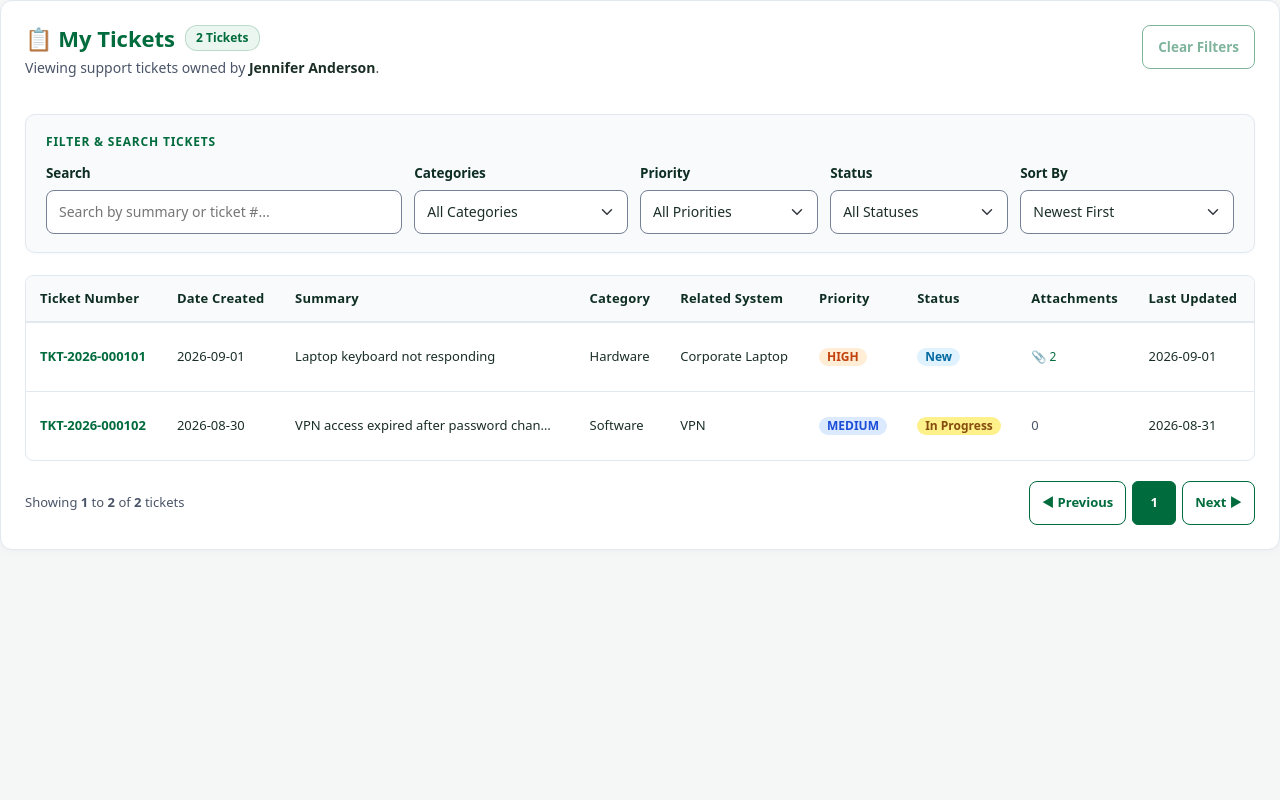
MyTicketsPage Component (Lab 2) › UI-04 / AC-09: updates search and filter dropdowns and refetches tickets
Expected: the button "TKT-2026-000101" is shown, 40,335 -> 146,379
Search filter
Step 1. Type "keyboard" into the field named "Search tickets" → (224, 212), box 46,190 -> 402,234
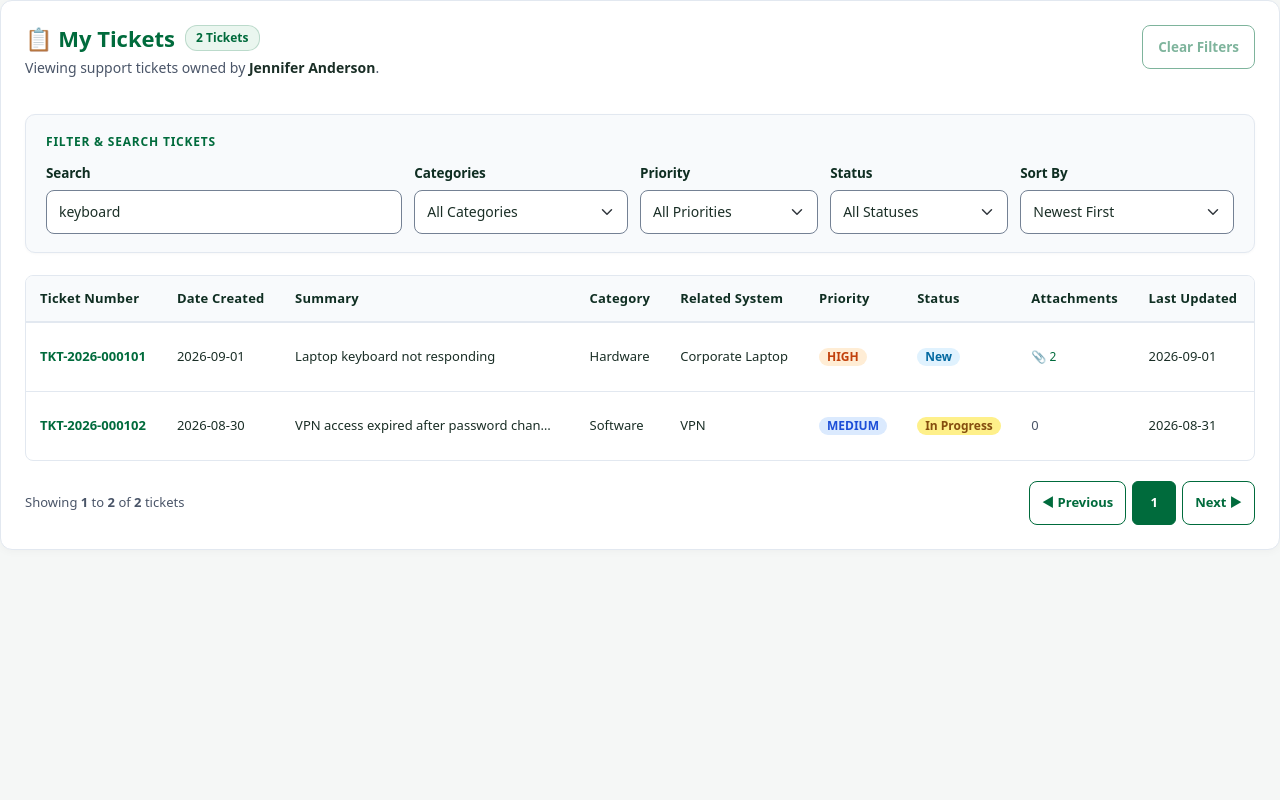
Category filter
Step 2. Select "Hardware" in the dropdown named "Filter by category" → (521, 212), box 414,190 -> 628,234
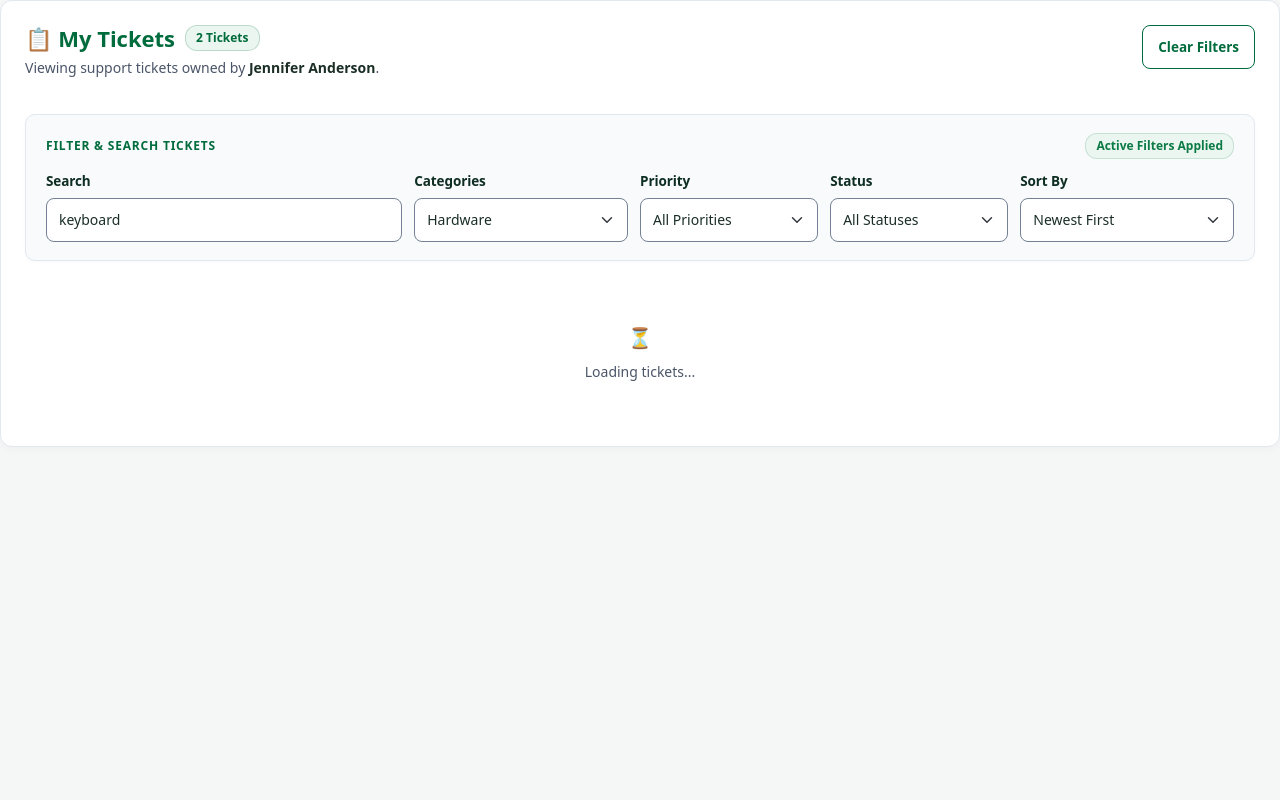
Priority filter
Step 3. Select "High" in the dropdown named "Filter by priority" → (729, 220), box 640,198 -> 818,242
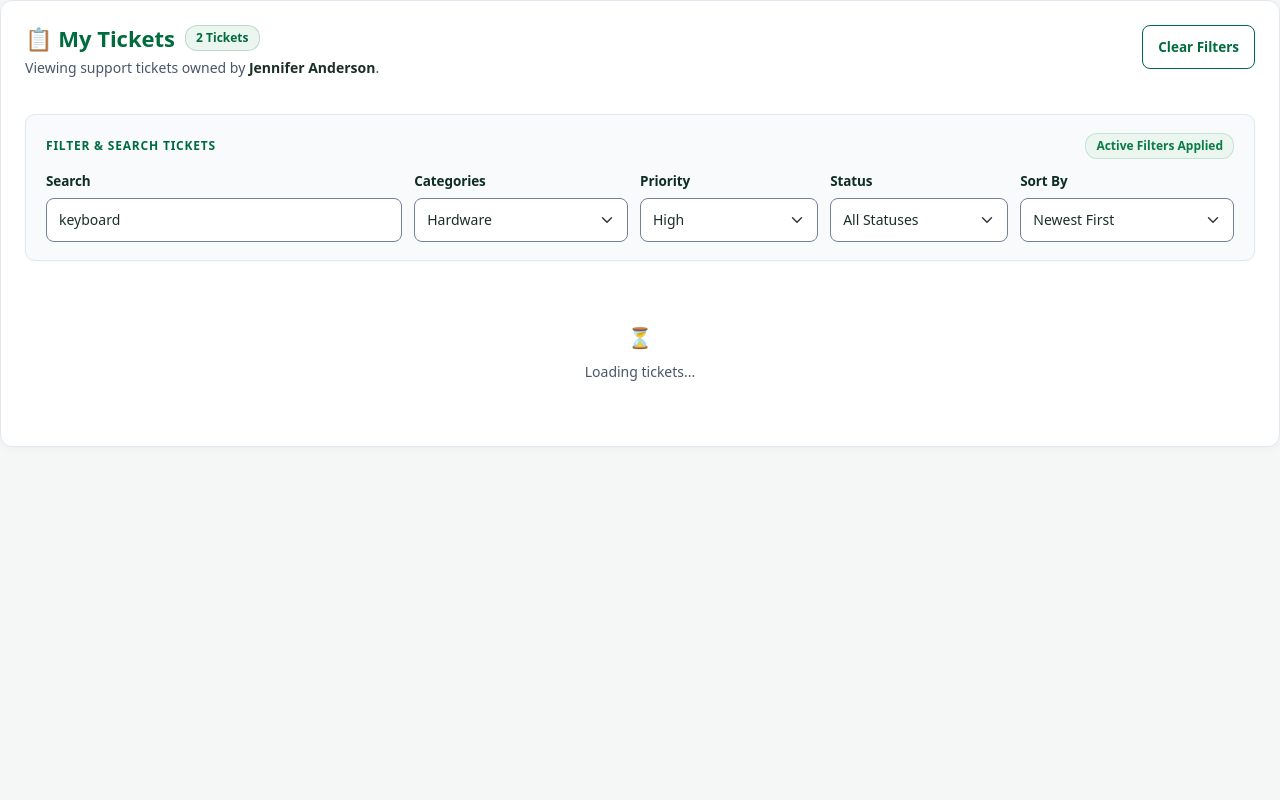
Status filter
Step 4. Select "New" in the dropdown named "Filter by status" → (919, 220), box 830,198 -> 1008,242
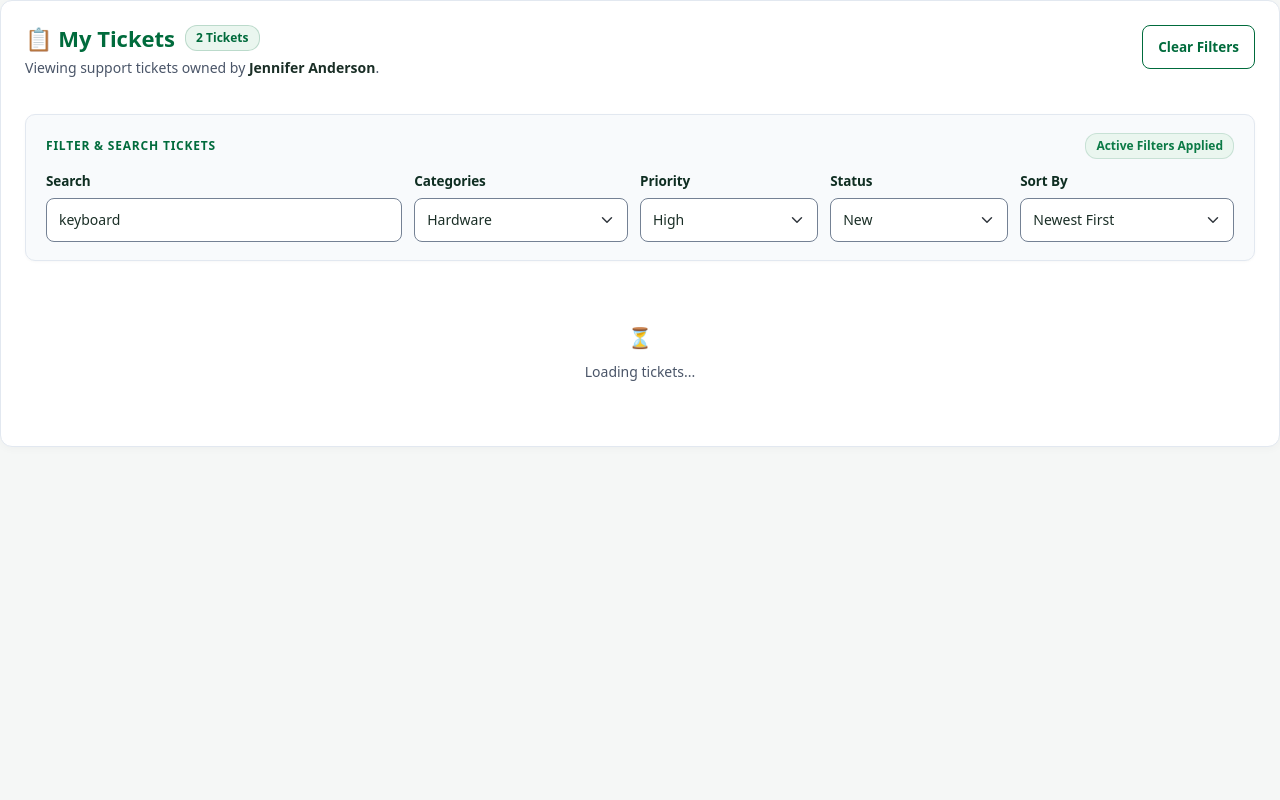
Sort filter
Step 5. Select "Ticket Number (Asc)" in the dropdown named "Sort tickets" → (1127, 220), box 1020,198 -> 1234,242
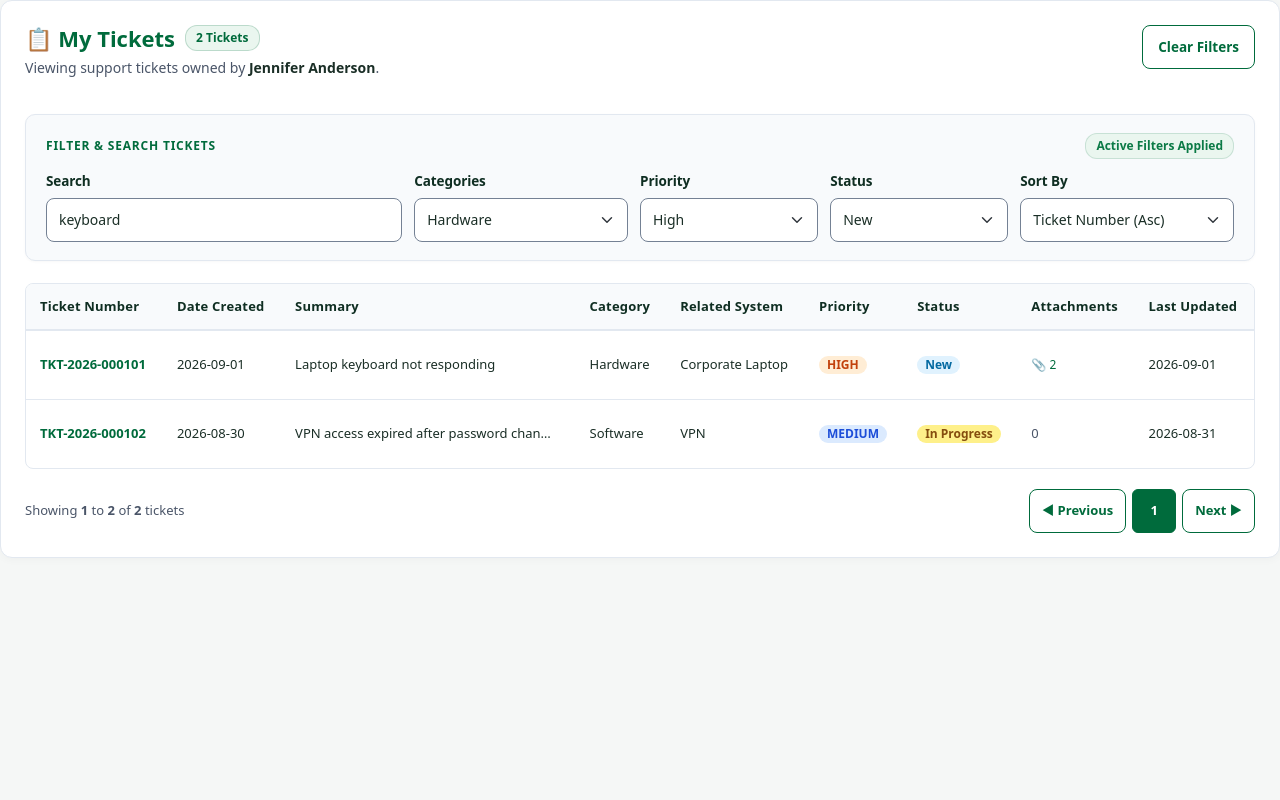
Step 6. Click the button "Clear Filters" → (1199, 47), box 1142,25 -> 1255,69
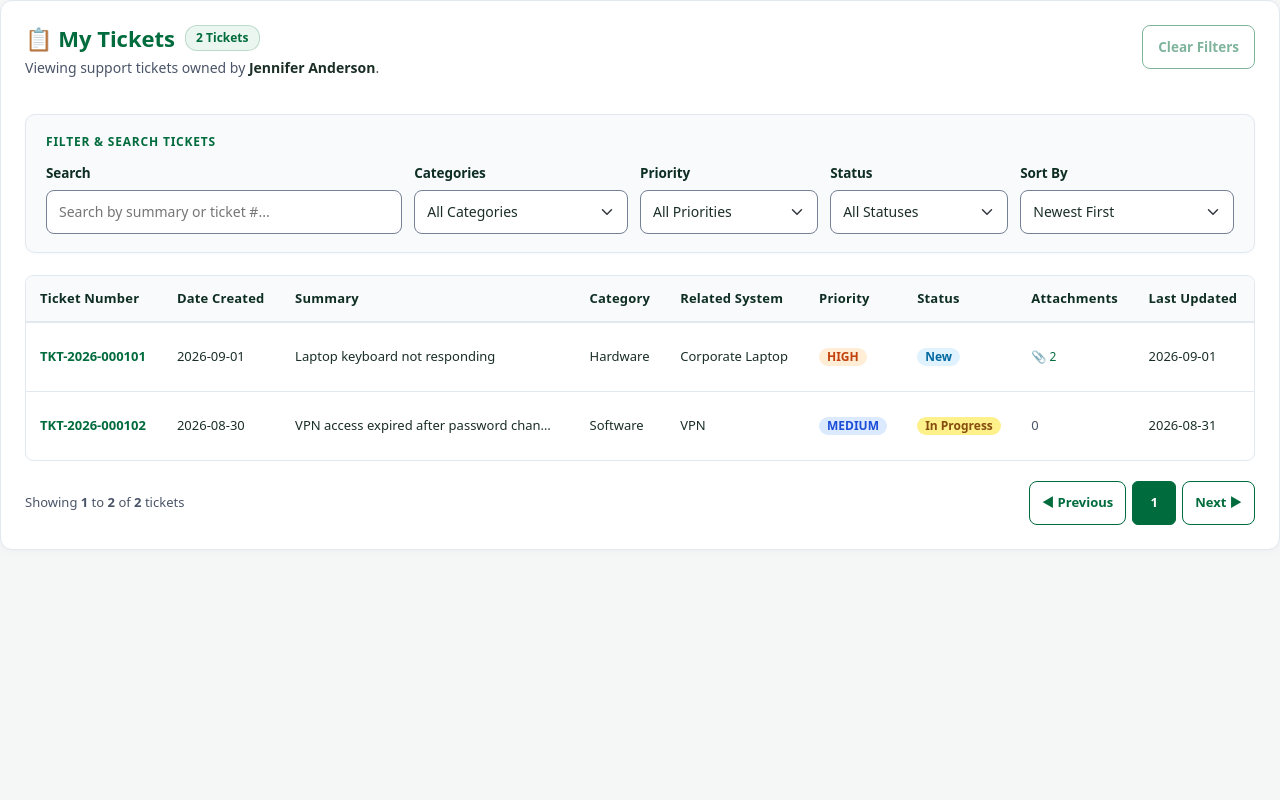
Result: the field named "Search tickets" is empty at 46,190 -> 402,234
